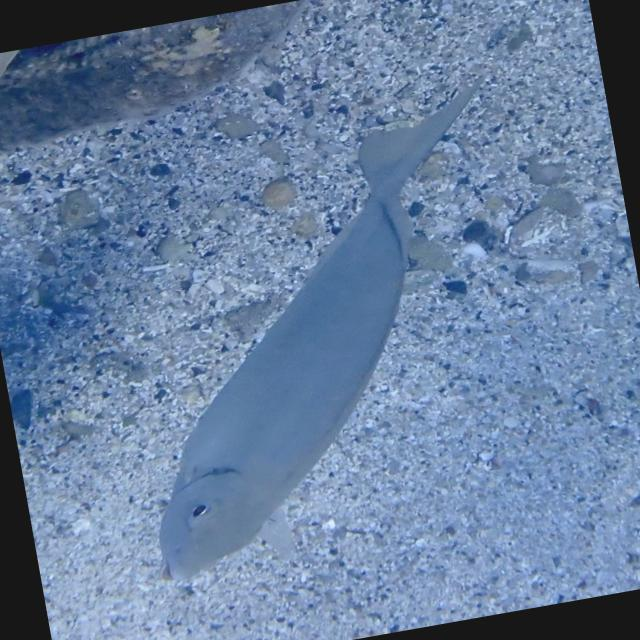Sokar Baligi: (74, 68, 564, 588)
